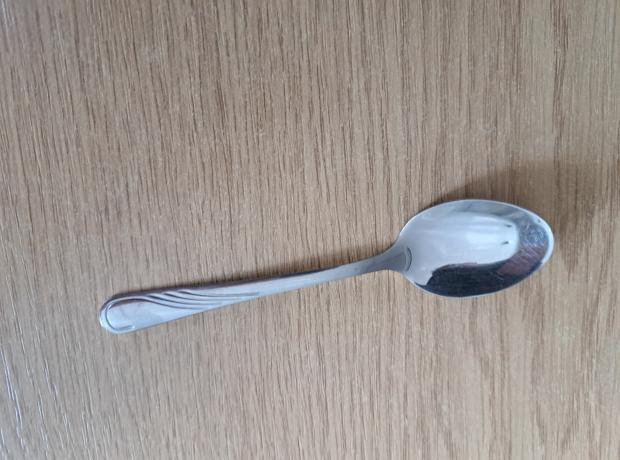metal: (92, 196, 559, 335)
